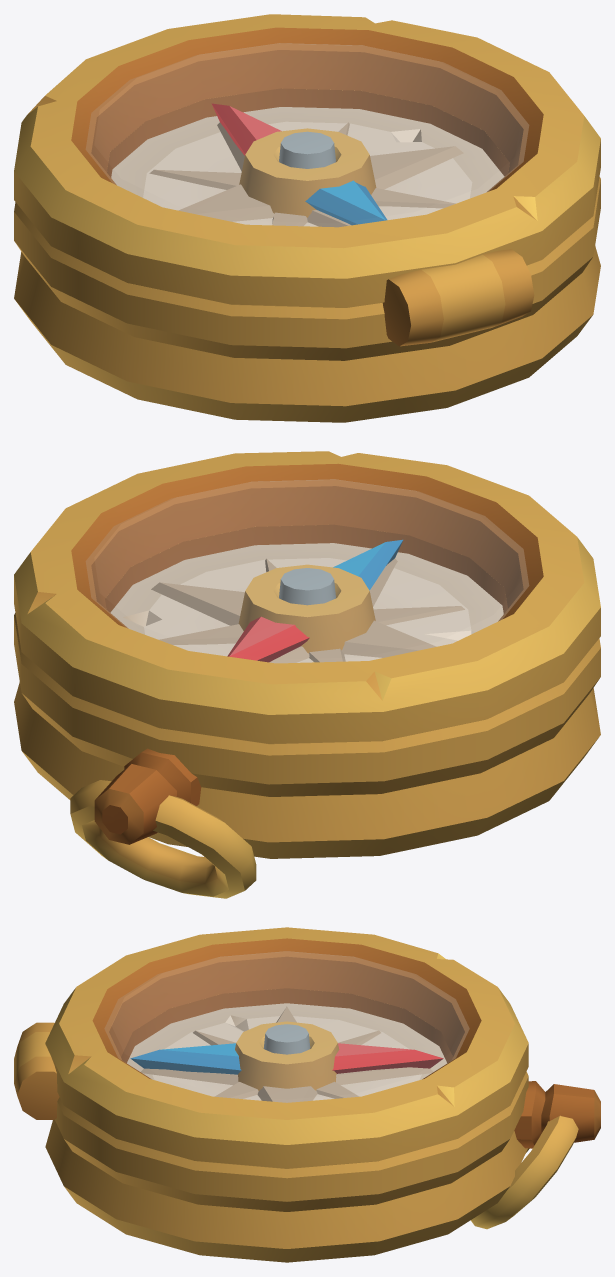
File: compass_base.glb
The picture shows the model from 3 angles, top to bottom: view 1: azimuth 30°, elevation 25°; view 2: azimuth 150°, elevation 25°; view 3: azimuth 270°, elevation 25°; orthographic projection. The views are drawn at different scales.
Parts seen in each view (by area): view 1: compass_lid, compass_base, compass_needle; view 2: compass_lid, compass_base, compass_needle; view 3: compass_lid, compass_base, compass_needle.
Part boxes in pixels (box(x1,y1,x2,y2)): compass_lid: box(14, 14, 600, 346); compass_base: box(14, 88, 600, 422); compass_needle: box(211, 103, 387, 225); compass_lid: box(14, 451, 600, 744); compass_base: box(14, 524, 600, 898); compass_needle: box(227, 539, 402, 662); compass_lid: box(14, 927, 528, 1168); compass_base: box(45, 988, 600, 1262); compass_needle: box(130, 1043, 443, 1074).
Bounding box in the file's own units: 0.3444 × 0.1598 × 0.4183.
Materials: 2 (1 with a texture image).
